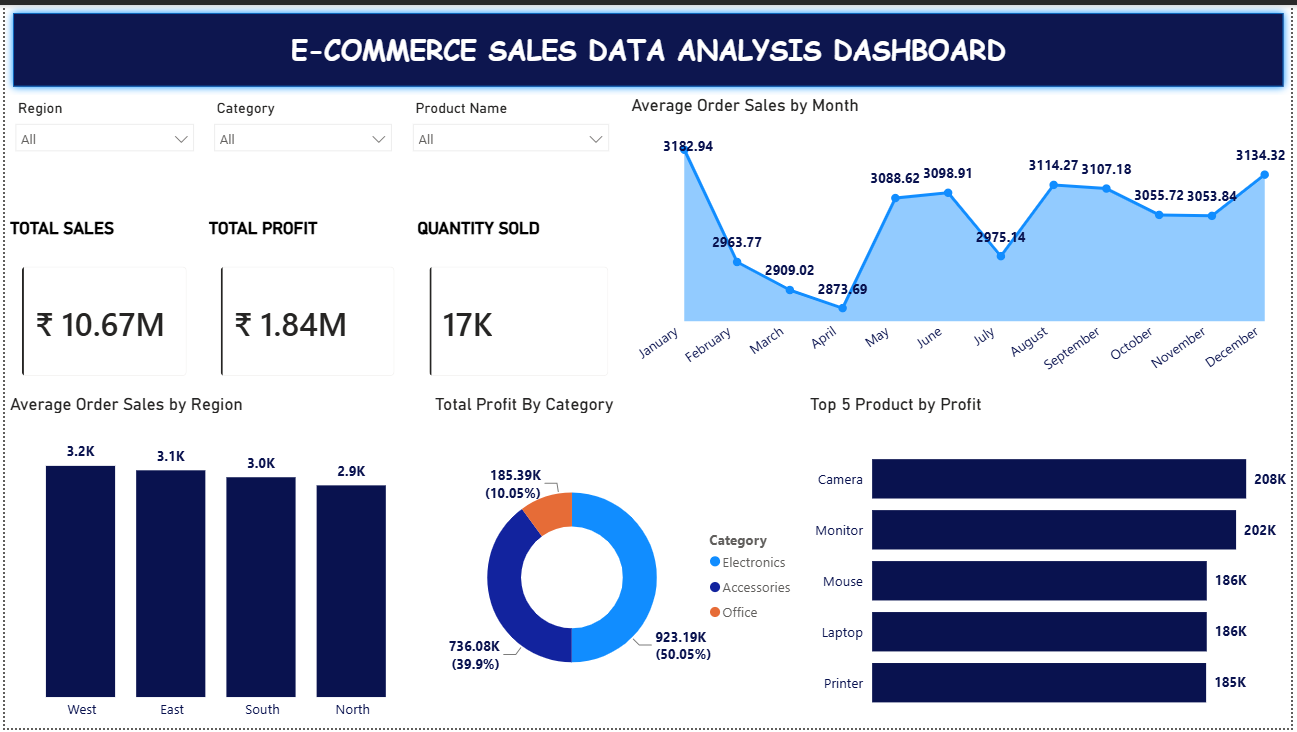

The page's visual inventory and layout, read from the dashboard file:
{"tool":"powerbi","page":{"name":"E-Commerce Sales Data Analysis Dashboard","canvas":[1280,720],"ordinal":0},"visuals":[{"type":"cardVisual","title":"TOTAL SALES","fields":{"Data":["Sum(Sales_Data.Sales)"]},"box":[0,211.6,198.1,174.9],"z":0},{"type":"clusteredColumnChart","title":"Average Order Sales by Region","fields":{"Category":["Sales_Data.Region"],"Y":["Avg(Sales_Data.Sales)"]},"box":[0,386.4,423.1,333.8],"z":1000},{"type":"cardVisual","title":"TOTAL PROFIT","fields":{"Data":["Sum(Sales_Data.Profit)"]},"box":[198.1,211.6,207.9,174.9],"z":2000},{"type":"donutChart","title":"Total Profit By Category","fields":{"Category":["Sales_Data.Category"],"Y":["Sum(Sales_Data.Profit)"]},"box":[423.1,386.4,373,333.8],"z":3000},{"type":"clusteredBarChart","title":"Top 5 Product by Profit","fields":{"Category":["Sales_Data.Product Name"],"Y":["Sum(Sales_Data.Profit)"]},"box":[796.1,386.4,484.2,333.8],"z":4000},{"type":"cardVisual","title":"QUANTITY SOLD","fields":{"Data":["Sum(Sales_Data.Quantity)"]},"box":[406,211.6,212.8,174.9],"z":5000},{"type":"areaChart","title":"Average Order Sales by Month","fields":{"Category":["Sales_Data.Order Date.Variation.Date Hierarchy.Month"],"Y":["Avg(Sales_Data.Sales)"]},"box":[618.8,89.3,661.6,297.1],"z":6000},{"type":"slicer","fields":{"Values":["Sales_Data.Region"]},"box":[0,89.3,198.1,122.3],"z":7000},{"type":"slicer","fields":{"Values":["Sales_Data.Category"]},"box":[198.1,89.3,196.9,122.3],"z":8000},{"type":"slicer","fields":{"Values":["Sales_Data.Product Name"]},"box":[395,89.3,215.2,122.3],"z":9000},{"type":"shape","box":[0,0,1280.3,89.3],"z":10000}]}

Visuals, with their boxes in screenshot pixels (x1, y1, x2, y2), scaled from the page's 1280x720 canvas onto the 1297x732 screenshot:
"TOTAL SALES" cardVisual: left=0, top=215, right=201, bottom=393
"Average Order Sales by Region" clusteredColumnChart: left=0, top=393, right=429, bottom=731
"TOTAL PROFIT" cardVisual: left=201, top=215, right=411, bottom=393
"Total Profit By Category" donutChart: left=429, top=393, right=807, bottom=731
"Top 5 Product by Profit" clusteredBarChart: left=807, top=393, right=1296, bottom=731
"QUANTITY SOLD" cardVisual: left=411, top=215, right=627, bottom=393
"Average Order Sales by Month" areaChart: left=627, top=91, right=1296, bottom=393
slicer - Sales_Data.Region: left=0, top=91, right=201, bottom=215
slicer - Sales_Data.Category: left=201, top=91, right=400, bottom=215
slicer - Sales_Data.Product Name: left=400, top=91, right=618, bottom=215
shape: left=0, top=0, right=1296, bottom=91
